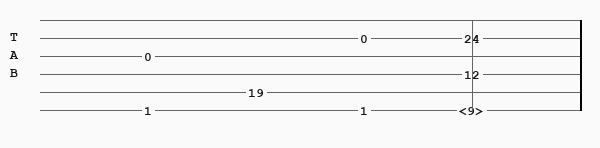0: (144, 50, 156, 62), (360, 32, 372, 44)
1: (144, 104, 156, 116), (360, 104, 372, 116)
12: (464, 68, 484, 80)
19: (248, 86, 268, 98)
24: (464, 32, 484, 44)
harmonic: (459, 104, 488, 116)
